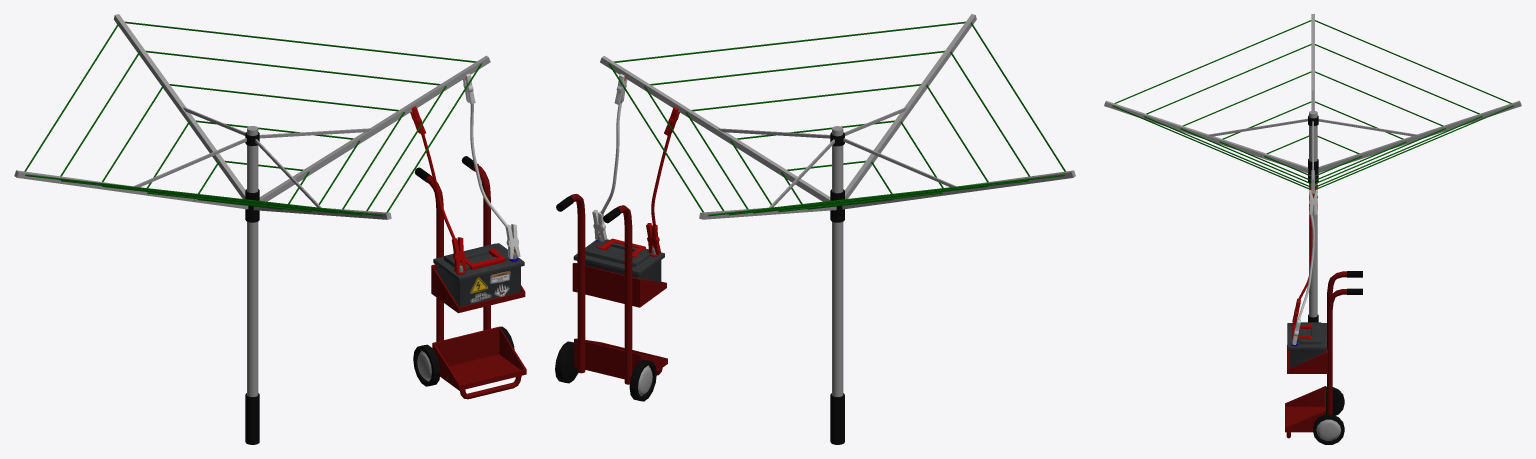
Rendered from Clothes_Line_Trap.fbx.
3 views of the same model, side by side, from view 1: azimuth 30°, elevation 25°; view 2: azimuth 150°, elevation 25°; view 3: azimuth 270°, elevation 25° (orthographic). The views are drawn at different scales.
Visible parts, largest first — view 1: Clothes_Hanger, Trolly, Car_battery, Black_Jump_Cable, Red_Jump_Cable; view 2: Clothes_Hanger, Trolly, Car_battery, Black_Jump_Cable, Red_Jump_Cable; view 3: Clothes_Hanger, Trolly, Car_battery, Black_Jump_Cable.
Boxes of the visible parts, box(x1,y1,x2,y2) form: Clothes_Hanger: box(14, 14, 490, 444); Trolly: box(413, 156, 526, 399); Car_battery: box(433, 243, 524, 306); Black_Jump_Cable: box(463, 73, 520, 258); Red_Jump_Cable: box(410, 106, 466, 272); Clothes_Hanger: box(600, 14, 1075, 444); Trolly: box(555, 194, 667, 401); Car_battery: box(573, 235, 664, 281); Black_Jump_Cable: box(592, 74, 627, 241); Red_Jump_Cable: box(646, 107, 679, 254); Clothes_Hanger: box(1104, 14, 1521, 322); Trolly: box(1285, 271, 1362, 444); Car_battery: box(1287, 320, 1326, 368); Black_Jump_Cable: box(1292, 189, 1317, 344).
Size of the model in its own units: 750 by 470 by 711.
